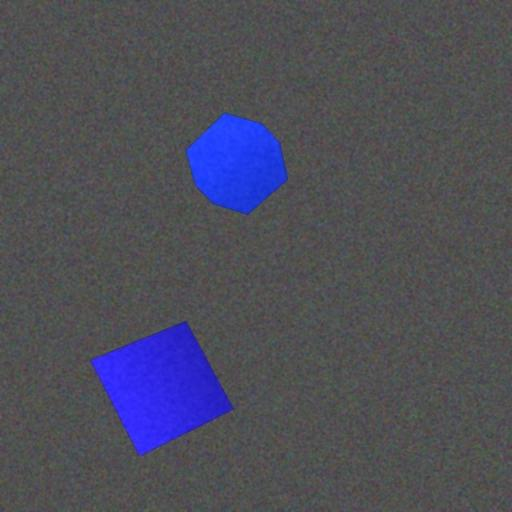BLUE_SQUARE: (90, 320, 234, 458)
